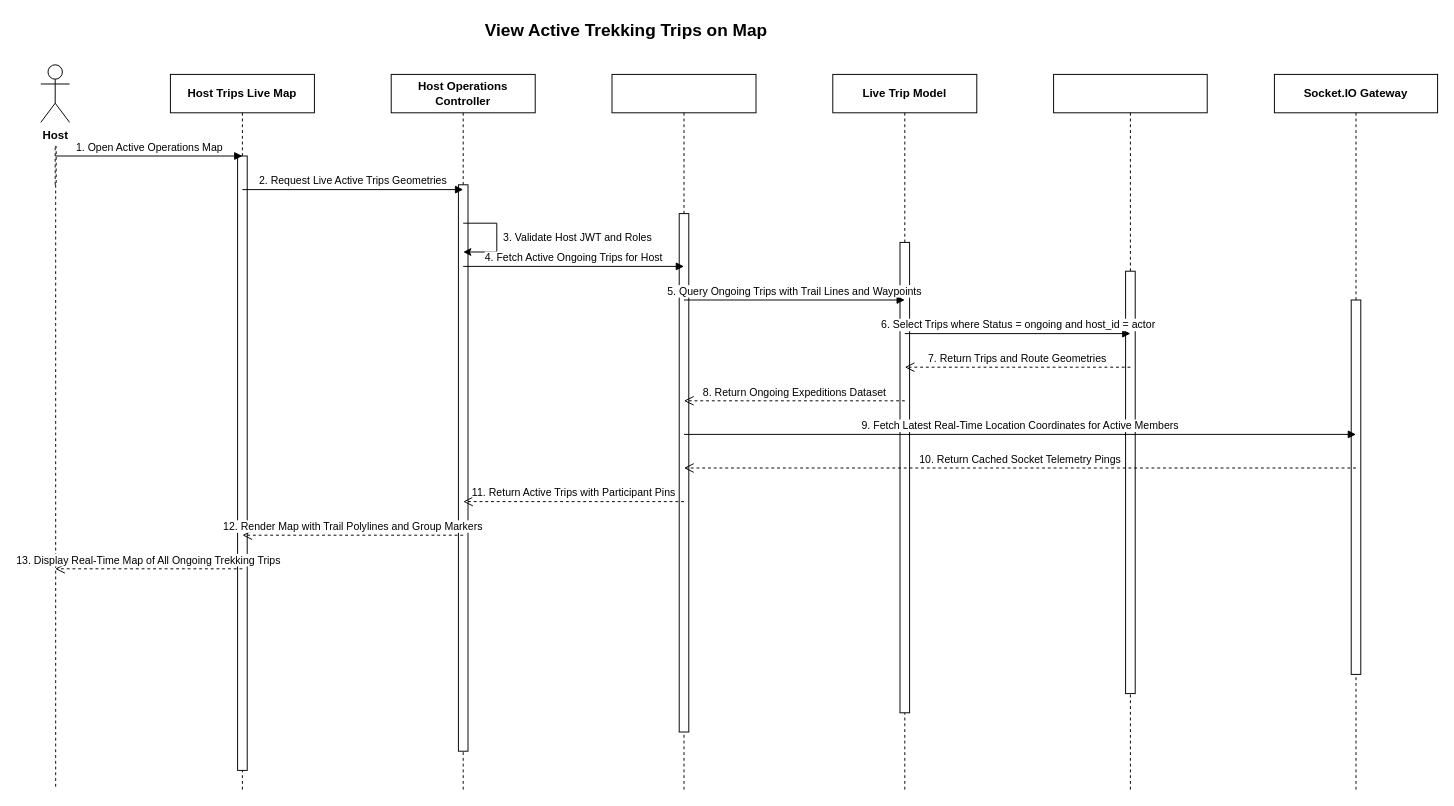
Some shapes in this 1454 by 806 pixel diagram are drawn without their labels. The box of each missing label's shape, as (x1, y1, x2, y2) in pixels:
Active Trips Monitoring Service: (611, 73, 756, 790)
PostgreSQL (PostGIS): (1053, 73, 1207, 790)
